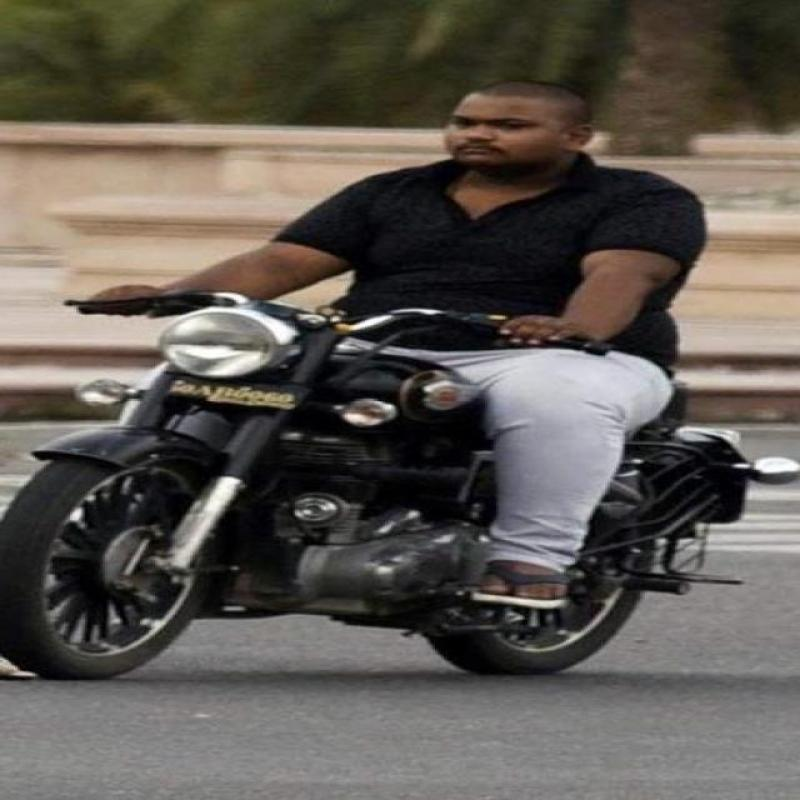nohelmet: (396, 82, 630, 174)
